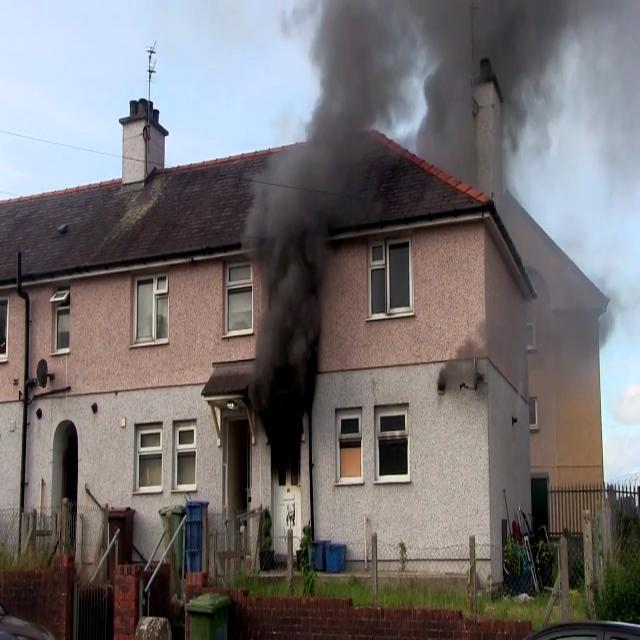Smoke: (297, 0, 573, 217), (238, 141, 372, 411), (439, 285, 626, 408)
